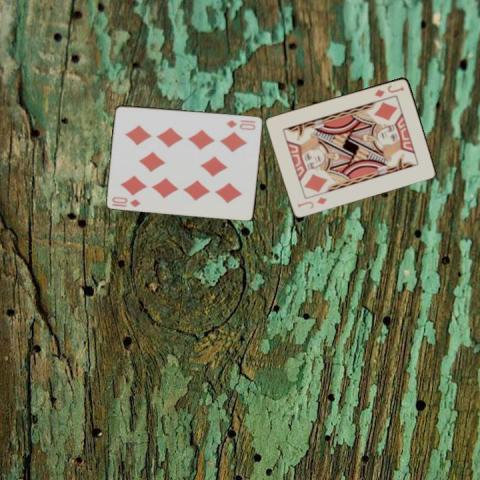10d: (110, 193, 142, 208), (224, 117, 257, 131)
Jd: (372, 82, 406, 99), (295, 194, 328, 210)
